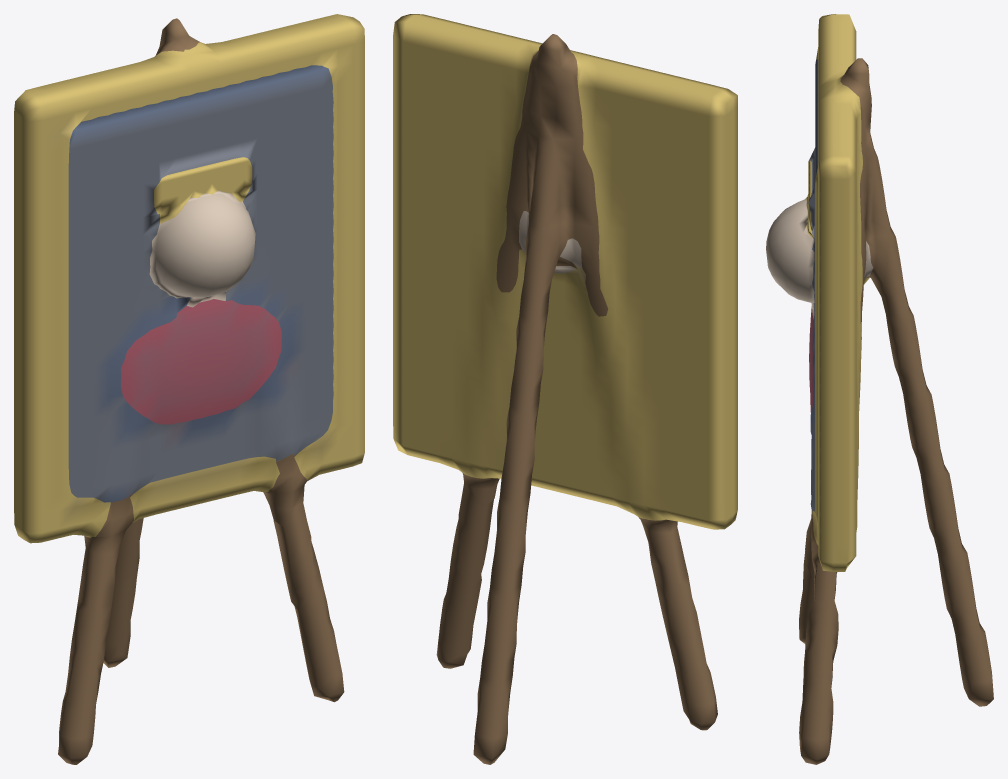
The model's file is portrait.glb.
3 views of the same model, side by side, from view 1: azimuth 30°, elevation 25°; view 2: azimuth 150°, elevation 25°; view 3: azimuth 270°, elevation 25° (orthographic). The views are drawn at different scales.
Parts seen in each view (by area): view 1: portrait; view 2: portrait; view 3: portrait.
Boxes of the visible parts, <box> form: portrait: <box>14,14,364,764</box>; portrait: <box>393,14,737,764</box>; portrait: <box>766,14,993,764</box>.
Bounding box in the file's own units: 48 × 93.94 × 30.03.
